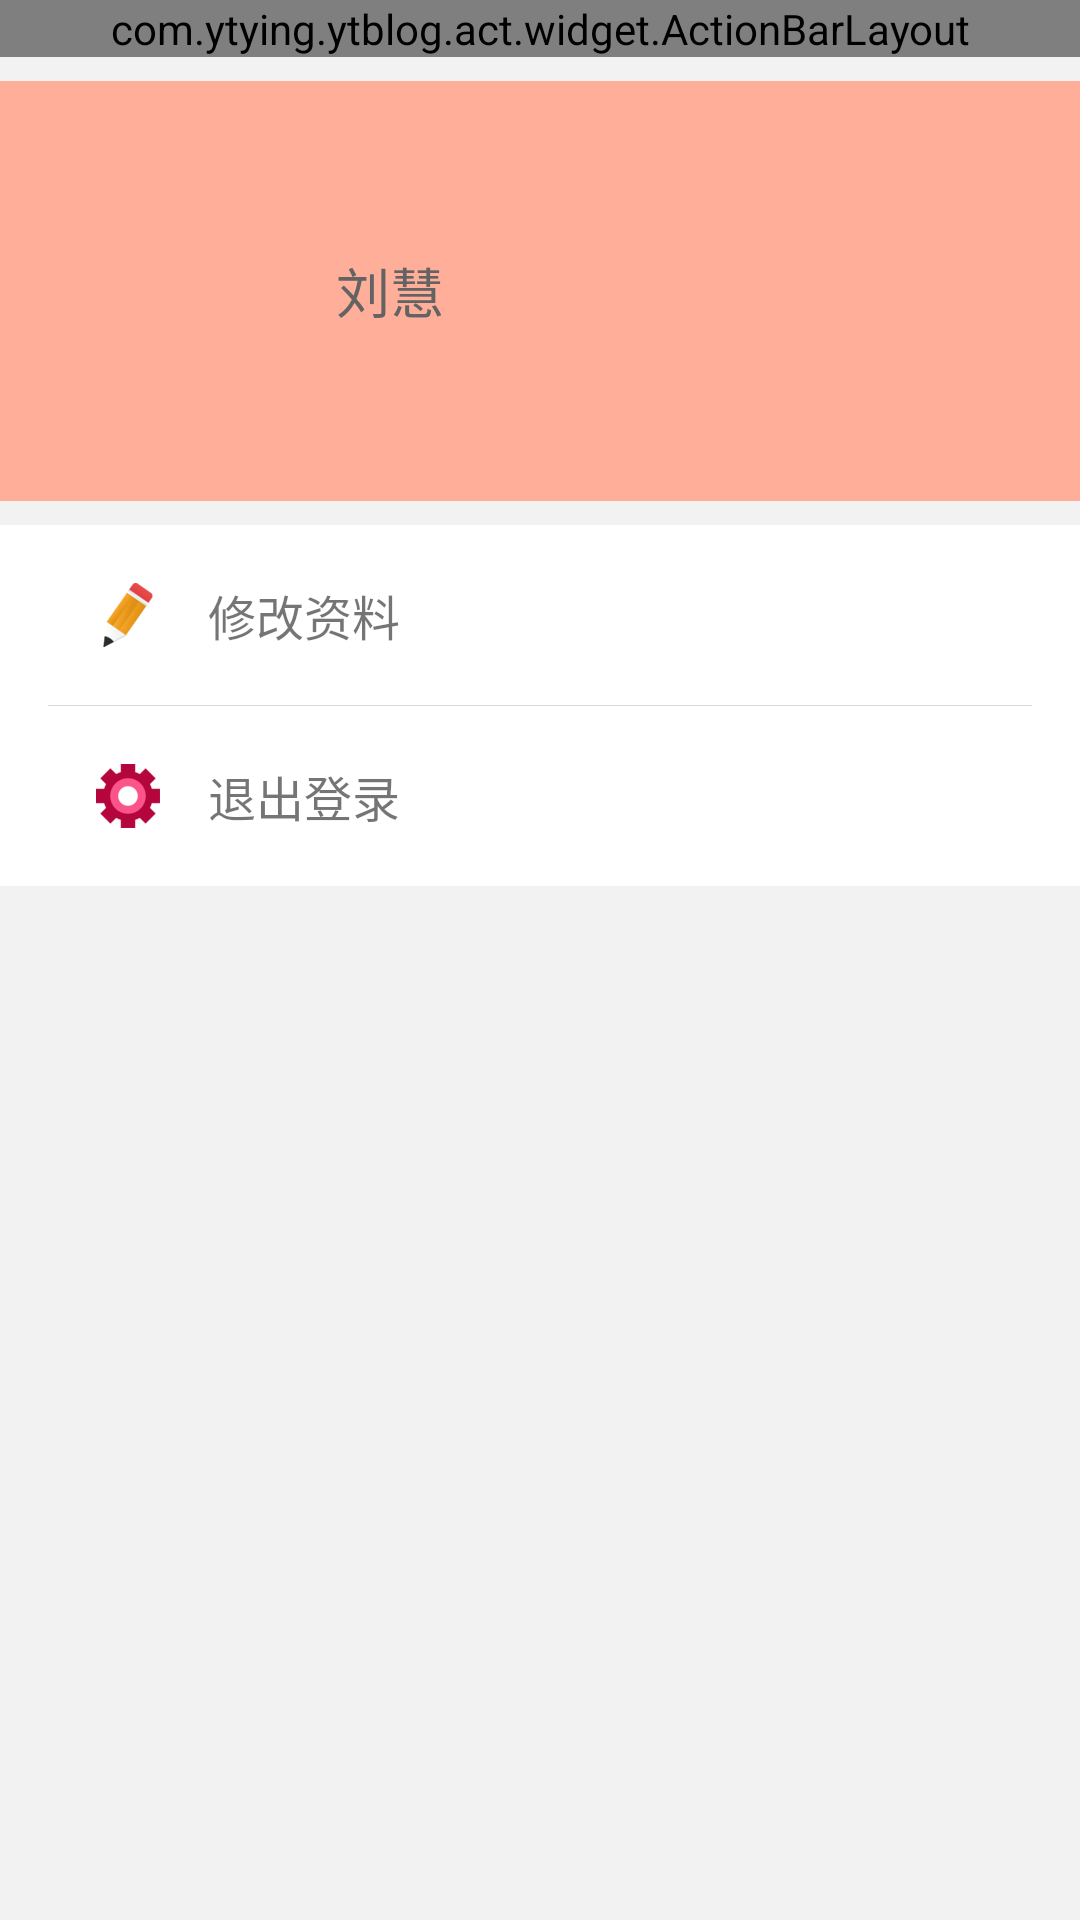

Screen size 1080 x 1920. Icon name, then its box in pixels as (x1, y1, x2, y2):
edit: (103, 583, 153, 647)
